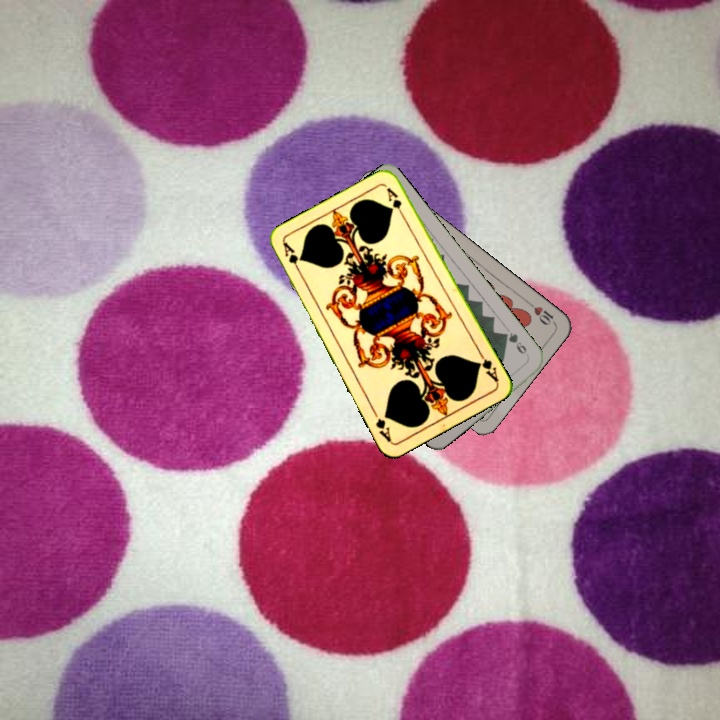G9: (499, 329, 532, 360)
GA: (473, 348, 501, 385), (279, 238, 304, 277)
H10: (523, 297, 558, 328)
